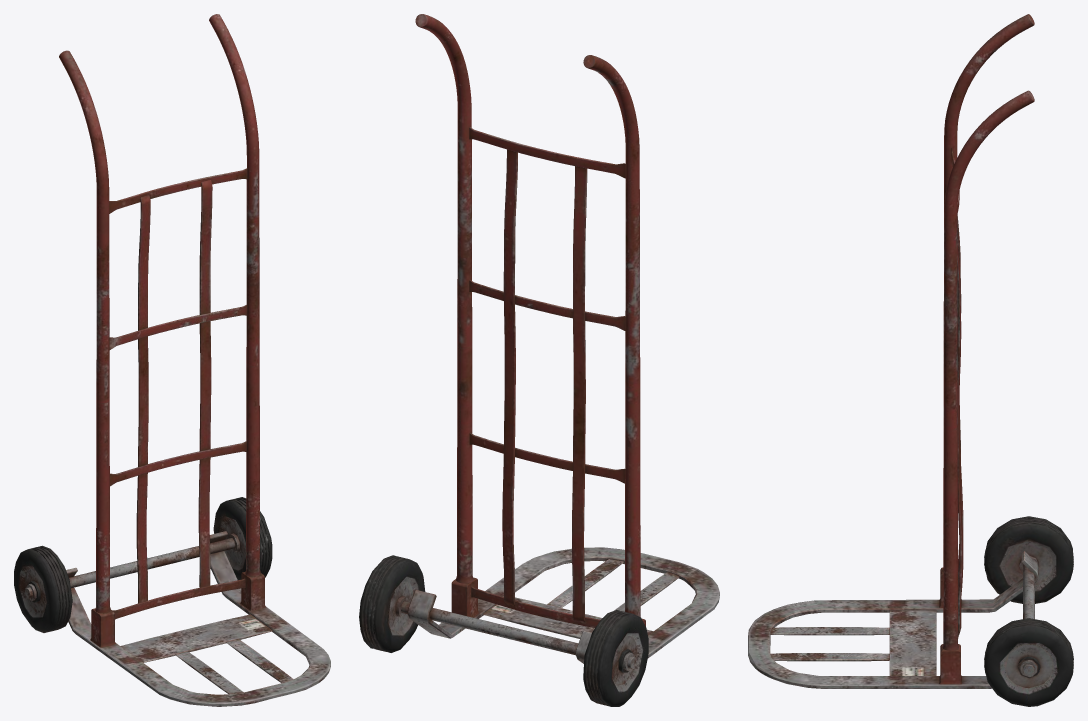
File: hand_truck.glb
3 renders of one model, left to right at view 1: azimuth 30°, elevation 25°; view 2: azimuth 150°, elevation 25°; view 3: azimuth 270°, elevation 25°, orthographic. The views are drawn at different scales.
Parts seen in each view (by area): view 1: hand_truck; view 2: hand_truck; view 3: hand_truck.
Part boxes in pixels (x1=…): hand_truck: x1=14, y1=14, x2=330, y2=706; hand_truck: x1=359, y1=14, x2=719, y2=706; hand_truck: x1=748, y1=14, x2=1073, y2=706.
Bounding box in the file's own units: 0.5933 × 1.4 × 0.6922.
Materials: 1 (1 with a texture image).
